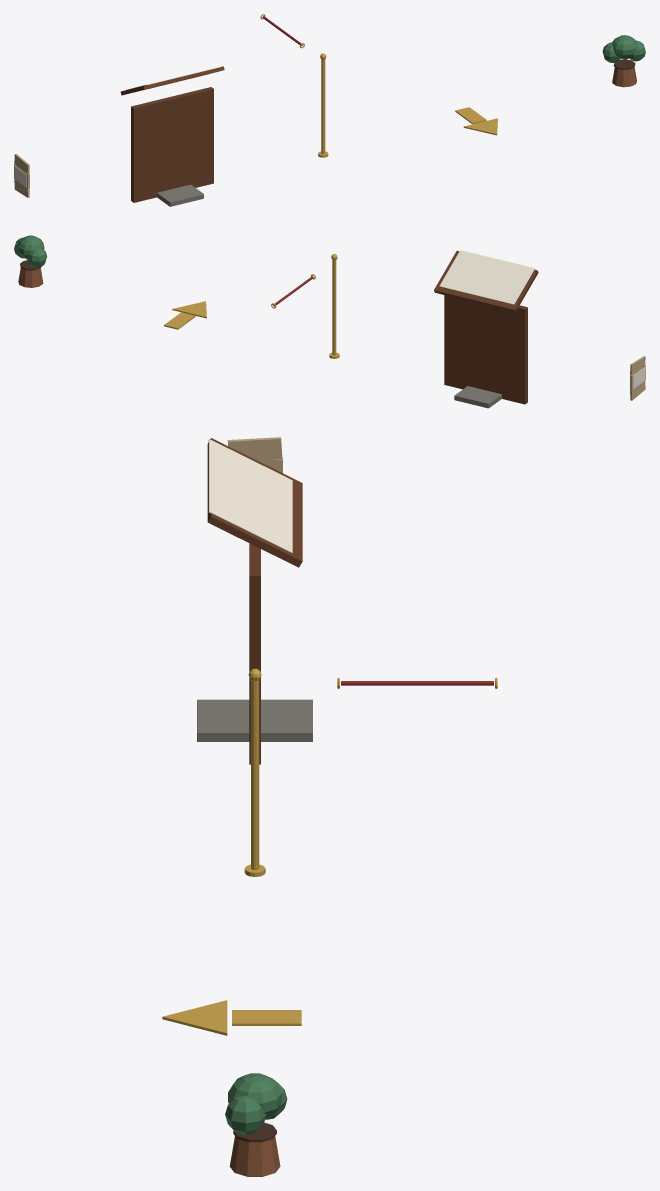
File: S6_common.glb
3 views of the same model, one above another, from view 1: azimuth 30°, elevation 25°; view 2: azimuth 150°, elevation 25°; view 3: azimuth 270°, elevation 25° (orthographic). The views are drawn at different scales.
Visible parts, largest first — view 1: label_stand_SIGN_label, plant_small, floor_arrow, barrier_post, collect_card; view 2: label_stand_SIGN_label, SIGN_label, plant_small, floor_arrow, barrier_post, collect_card; view 3: label_stand_SIGN_label, SIGN_label, plant_small, floor_arrow, barrier_post, collect_card.
Boxes of the visible parts, x1=… form: label_stand_SIGN_label: x1=120, y1=66, x2=224, y2=206; plant_small: x1=602, y1=35, x2=645, y2=87; floor_arrow: x1=455, y1=107, x2=497, y2=135; barrier_post: x1=318, y1=53, x2=328, y2=157; collect_card: x1=14, y1=153, x2=29, y2=197; label_stand_SIGN_label: x1=434, y1=250, x2=538, y2=408; SIGN_label: x1=439, y1=250, x2=535, y2=304; plant_small: x1=14, y1=235, x2=47, y2=287; floor_arrow: x1=164, y1=301, x2=206, y2=329; barrier_post: x1=329, y1=254, x2=339, y2=358; collect_card: x1=630, y1=356, x2=645, y2=400; label_stand_SIGN_label: x1=197, y1=438, x2=312, y2=764; SIGN_label: x1=208, y1=439, x2=292, y2=552; plant_small: x1=225, y1=1073, x2=287, y2=1176; floor_arrow: x1=162, y1=1000, x2=301, y2=1035; barrier_post: x1=244, y1=668, x2=265, y2=876; collect_card: x1=227, y1=437, x2=282, y2=472.
Size of the model in its own units: 6.19 by 1.19 by 1.45.
